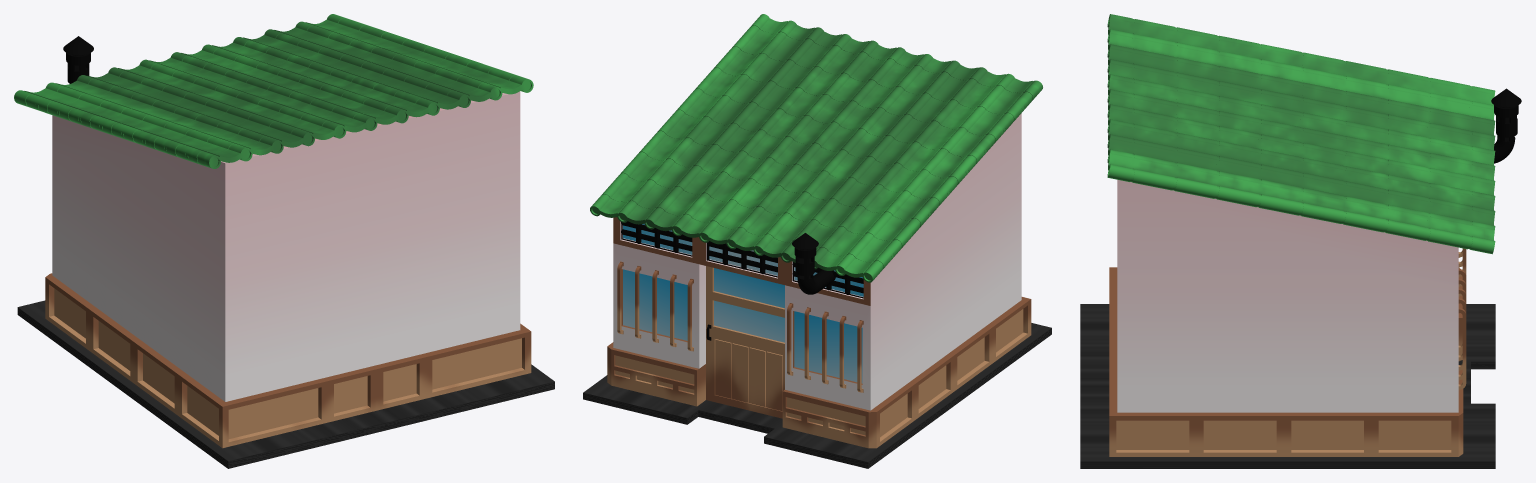
Rendered from house4.fbx.
3 views of the same model, side by side, from view 1: azimuth 30°, elevation 25°; view 2: azimuth 150°, elevation 25°; view 3: azimuth 270°, elevation 25° (orthographic). The views are drawn at different scales.
Parts seen in each view (by area): view 1: Cube.018; view 2: Cube.018, Cube.019; view 3: Cube.018.
Part boxes in pixels (x1=…): Cube.018: x1=14, y1=14, x2=554, y2=468; Cube.018: x1=583, y1=14, x2=1051, y2=468; Cube.019: x1=706, y1=266, x2=784, y2=418; Cube.018: x1=1080, y1=14, x2=1521, y2=468.
Size of the model in its own units: 305 by 266 by 357.
6 materials, 5 textured.
